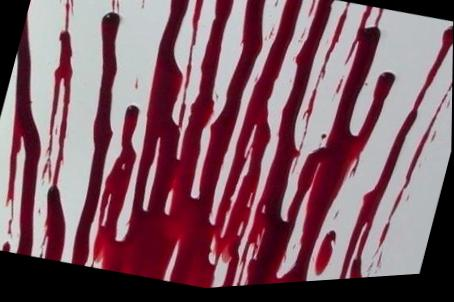Fire: (91, 0, 395, 291), (339, 31, 453, 284), (365, 83, 453, 283), (70, 10, 119, 267), (39, 0, 72, 262), (5, 18, 40, 256), (317, 236, 336, 280)
